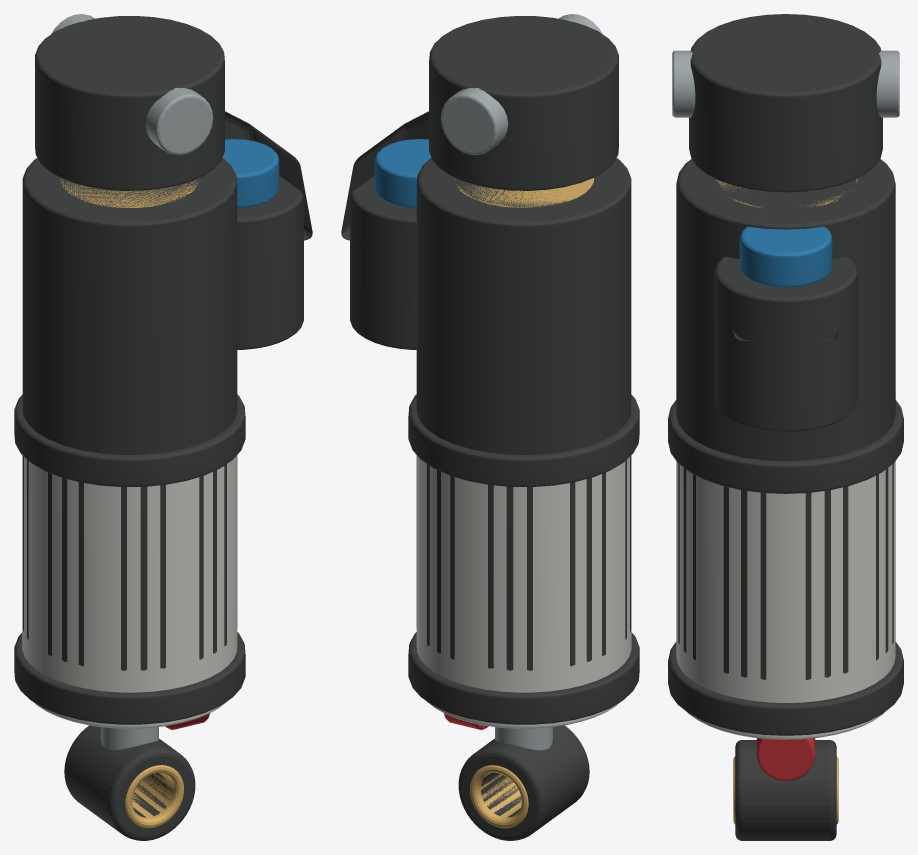
The model's file is fox-float-x2-factory-my26--326a4b10.glb.
3 renders of one model, left to right at view 1: azimuth 30°, elevation 25°; view 2: azimuth 150°, elevation 25°; view 3: azimuth 270°, elevation 25°, orthographic.
Visible parts, largest first — view 1: fox-float-x2-factory-my26--326a4b10__link, fox-float-x2-factory-my26--326a4b10__frame, fox-float-x2-factory-my26--326a4b10__bolts, fox-float-x2-factory-my26--326a4b10__stanchions, fox-float-x2-factory-my26--326a4b10__adjuster; view 2: fox-float-x2-factory-my26--326a4b10__link, fox-float-x2-factory-my26--326a4b10__frame, fox-float-x2-factory-my26--326a4b10__bolts, fox-float-x2-factory-my26--326a4b10__stanchions, fox-float-x2-factory-my26--326a4b10__adjuster; view 3: fox-float-x2-factory-my26--326a4b10__link, fox-float-x2-factory-my26--326a4b10__frame, fox-float-x2-factory-my26--326a4b10__adjuster, fox-float-x2-factory-my26--326a4b10__bolts, fox-float-x2-factory-my26--326a4b10__rebound, fox-float-x2-factory-my26--326a4b10__stanchions.
Boxes of the visible parts, <box> form: fox-float-x2-factory-my26--326a4b10__link: <box>14,16,312,840</box>; fox-float-x2-factory-my26--326a4b10__frame: <box>22,455,237,728</box>; fox-float-x2-factory-my26--326a4b10__bolts: <box>51,14,213,750</box>; fox-float-x2-factory-my26--326a4b10__stanchions: <box>60,179,198,828</box>; fox-float-x2-factory-my26--326a4b10__adjuster: <box>222,139,279,208</box>; fox-float-x2-factory-my26--326a4b10__link: <box>341,16,639,840</box>; fox-float-x2-factory-my26--326a4b10__frame: <box>416,455,631,728</box>; fox-float-x2-factory-my26--326a4b10__bolts: <box>440,14,602,750</box>; fox-float-x2-factory-my26--326a4b10__stanchions: <box>455,178,593,828</box>; fox-float-x2-factory-my26--326a4b10__adjuster: <box>374,139,431,208</box>; fox-float-x2-factory-my26--326a4b10__link: <box>668,14,903,840</box>; fox-float-x2-factory-my26--326a4b10__frame: <box>676,461,895,739</box>; fox-float-x2-factory-my26--326a4b10__adjuster: <box>739,226,832,287</box>; fox-float-x2-factory-my26--326a4b10__bolts: <box>672,50,899,738</box>; fox-float-x2-factory-my26--326a4b10__rebound: <box>756,738,815,781</box>; fox-float-x2-factory-my26--326a4b10__stanchions: <box>716,179,857,824</box>.
Bounding box in the file's own units: 0.074 × 0.205 × 0.056.
